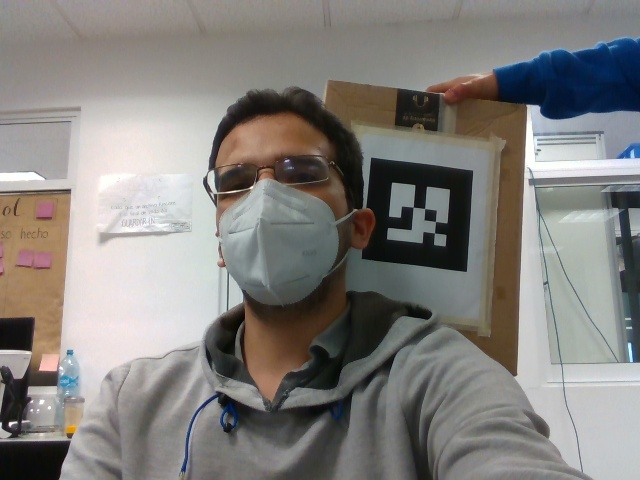ar2: (366, 154, 475, 278)
